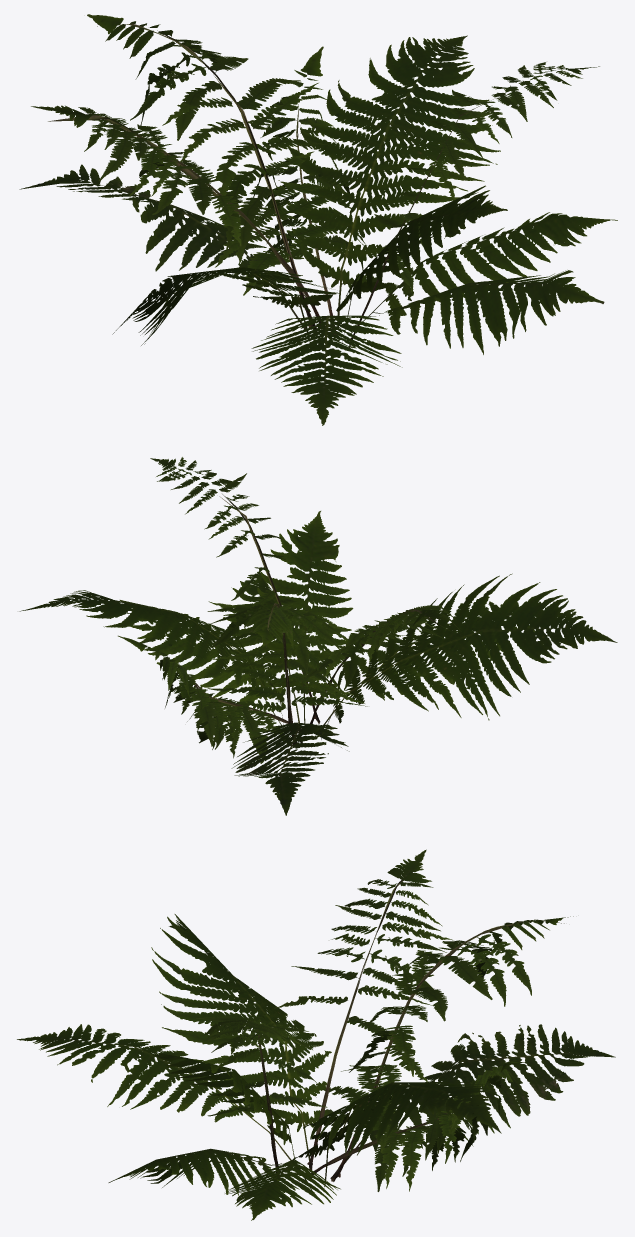
The model's file is egrelti_lod1.glb.
3 renders of one model, top to bottom at view 1: azimuth 30°, elevation 25°; view 2: azimuth 150°, elevation 25°; view 3: azimuth 270°, elevation 25°, orthographic. The views are drawn at different scales.
Parts seen in each view (by area): view 1: egrelti_lod1; view 2: egrelti_lod1; view 3: egrelti_lod1.
Boxes of the visible parts, bbox=[...] form: egrelti_lod1: bbox=[19, 14, 617, 425]; egrelti_lod1: bbox=[19, 457, 617, 815]; egrelti_lod1: bbox=[17, 849, 615, 1220].
Size of the model in its own units: 1.57 by 0.6975 by 1.61.
Materials: 1 (1 with a texture image).
